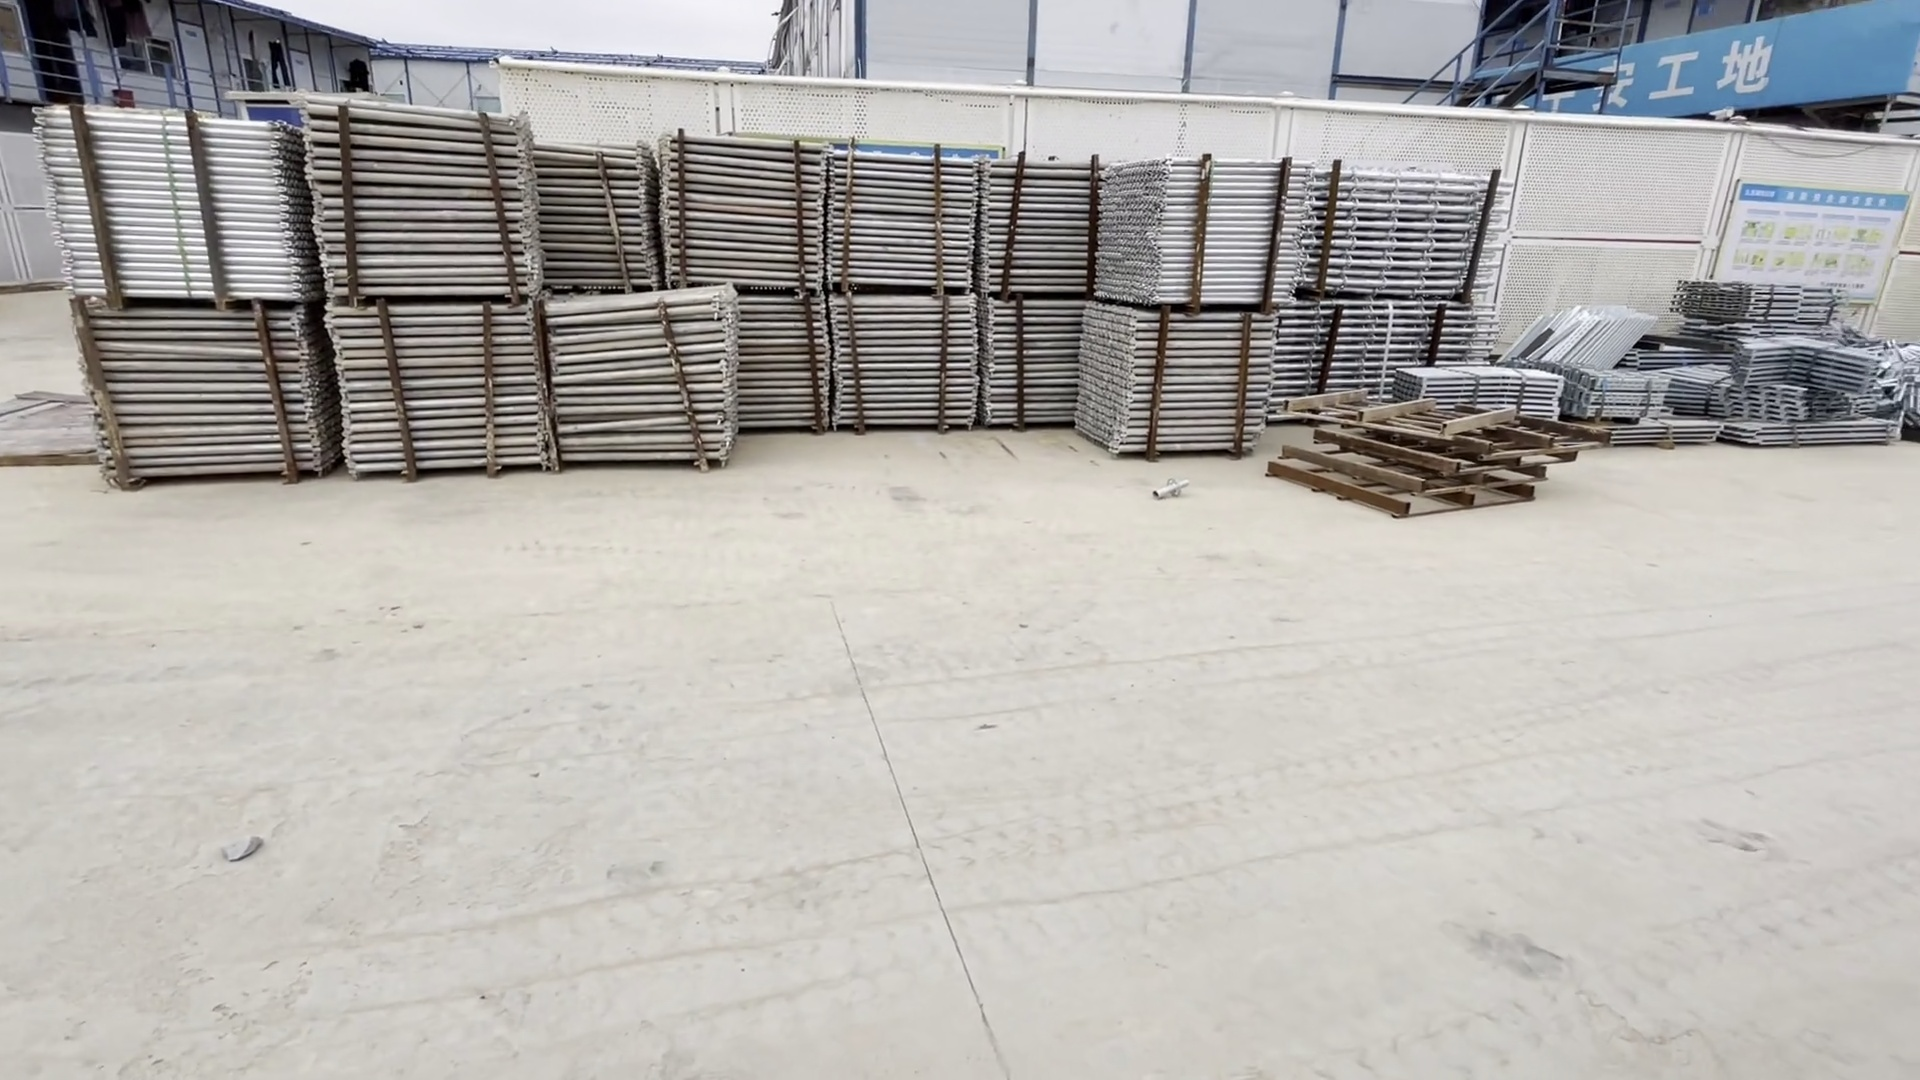scaffold: (30, 79, 1520, 542), (1513, 266, 1920, 487)
